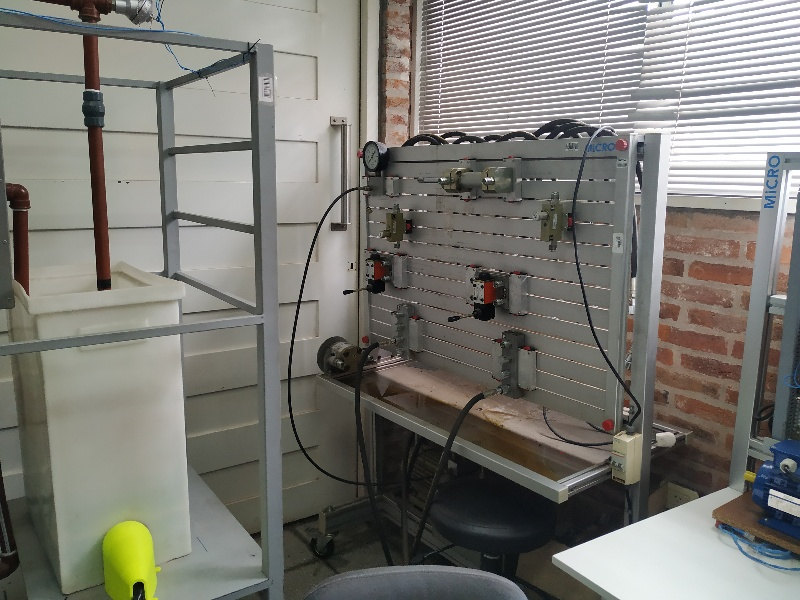Tablero 5: (359, 143, 635, 430)
